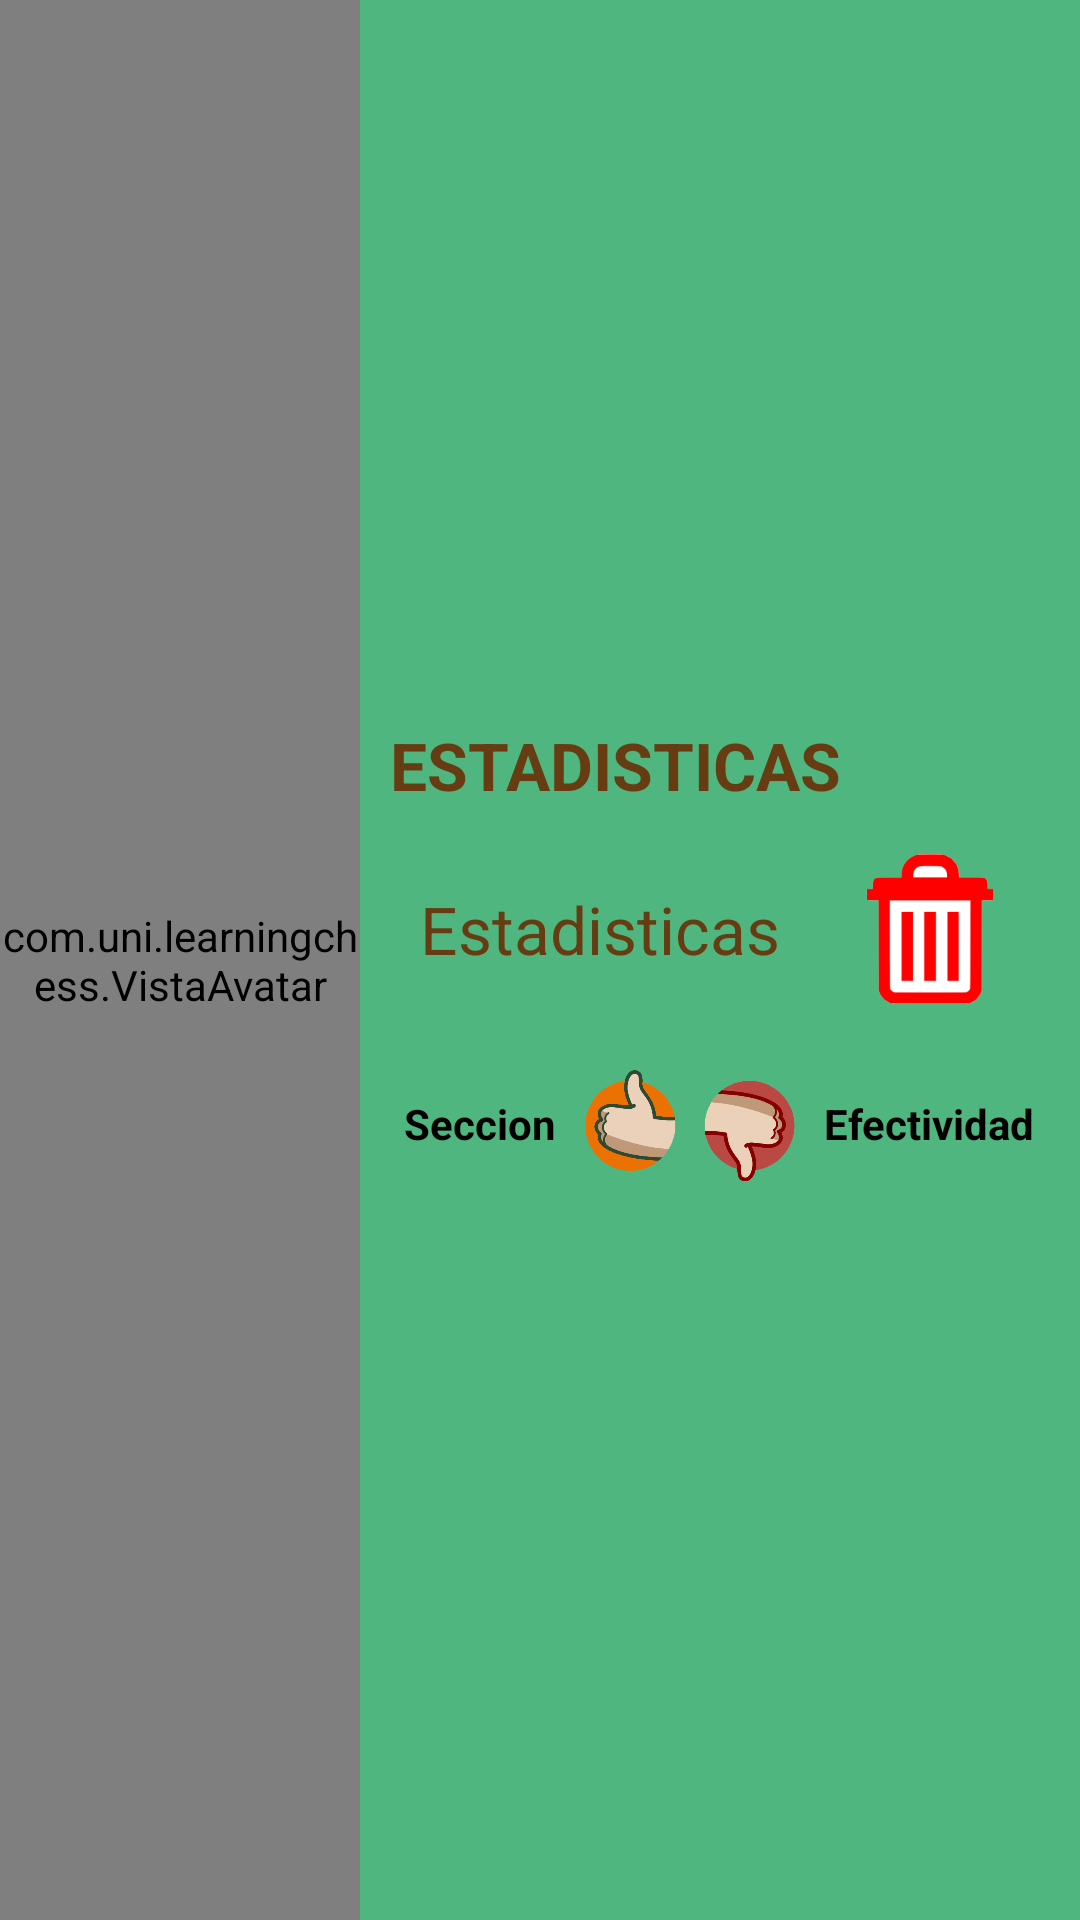

Screen size 1080×1920. Icon name, then its box in pixels as [left=x1, top=y1, right=x2, bottom=y2]:
delete: [left=867, top=854, right=994, bottom=1004]
